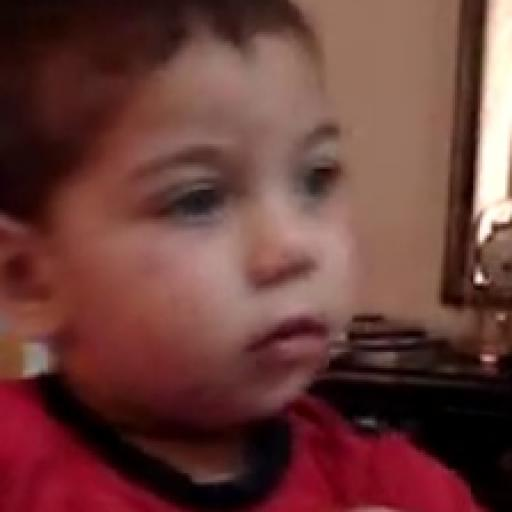Autism: (27, 8, 443, 448)
